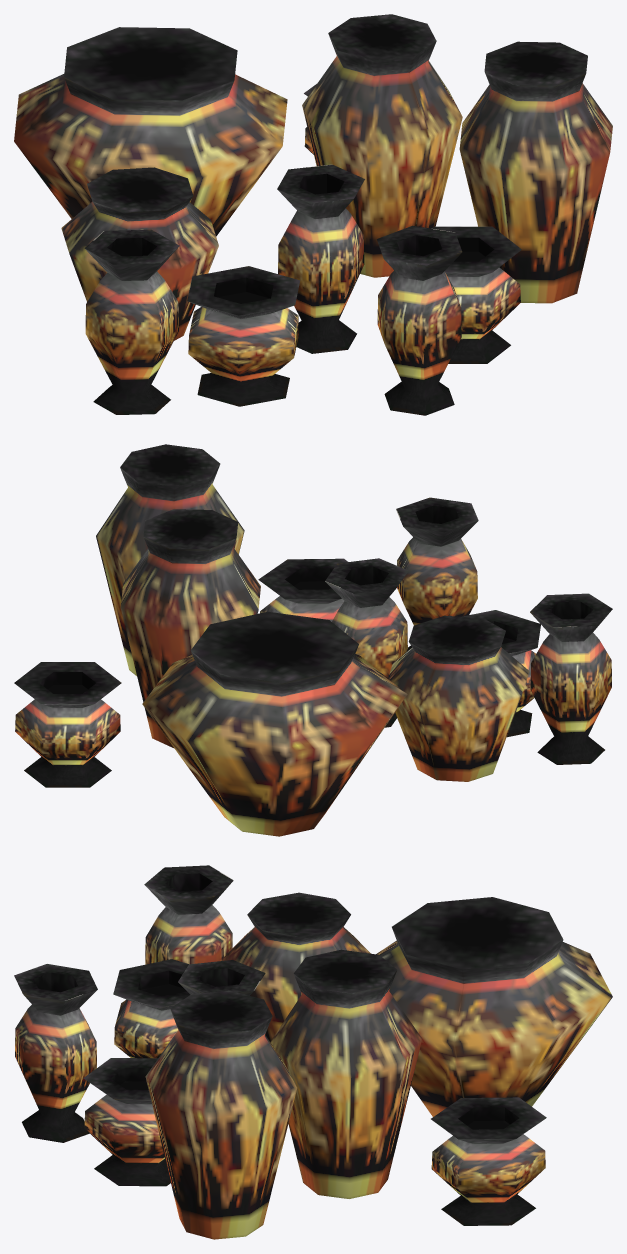
Rendered from amphorae_treasure.dae.
3 renders of one model, top to bottom at view 1: azimuth 30°, elevation 25°; view 2: azimuth 150°, elevation 25°; view 3: azimuth 270°, elevation 25°, orthographic. The views are drawn at different scales.
Visible parts, largest first — view 1: Jar_short02; view 2: Jar_short02; view 3: Jar_short02.
Part boxes in pixels (left/top/right/bottom): Jar_short02: left=14, top=14, right=612, bottom=415; Jar_short02: left=14, top=444, right=612, bottom=836; Jar_short02: left=14, top=865, right=612, bottom=1239.
Size of the model in its own units: 5.38 by 2.17 by 5.6.
